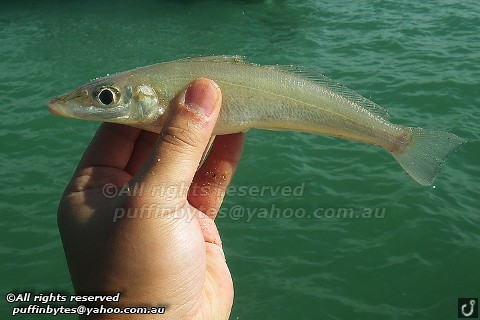kiss: (48, 48, 467, 195)
